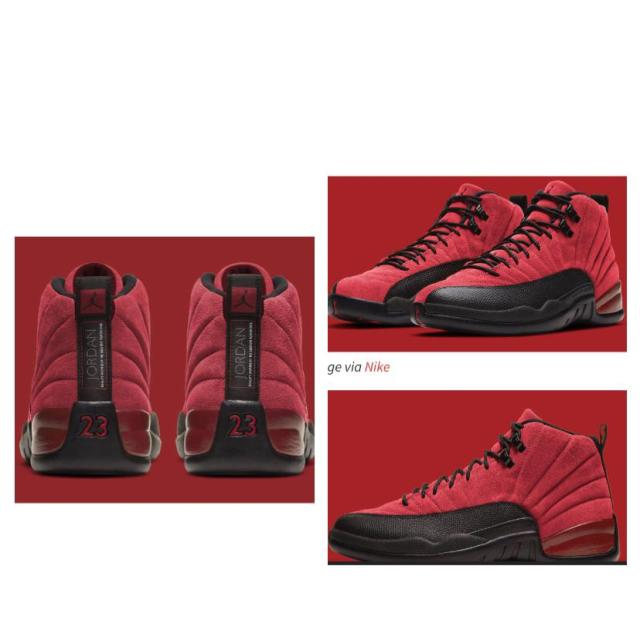shoe: (327, 416, 625, 561), (411, 180, 627, 334), (166, 257, 311, 473), (26, 259, 154, 498), (330, 184, 530, 328)
